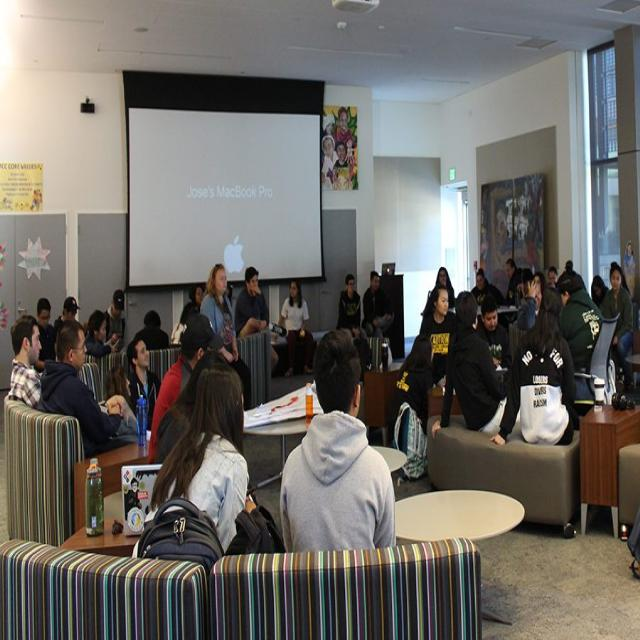body: (277, 324, 398, 554), (144, 360, 262, 565), (488, 286, 583, 449), (36, 316, 139, 460), (429, 289, 522, 441), (146, 312, 224, 465), (154, 344, 234, 492), (199, 262, 254, 412), (556, 268, 610, 411), (388, 333, 434, 450), (480, 178, 543, 258), (234, 266, 279, 372), (418, 281, 460, 393), (276, 278, 316, 380), (125, 335, 164, 435), (316, 106, 358, 190), (600, 262, 634, 363), (9, 312, 43, 410), (476, 295, 512, 385), (102, 363, 138, 436), (360, 269, 396, 339), (31, 296, 60, 380), (52, 295, 82, 362), (336, 273, 362, 341), (84, 308, 119, 357), (178, 282, 205, 344), (132, 308, 170, 350), (529, 257, 575, 291), (422, 265, 455, 311), (104, 288, 126, 354), (470, 267, 489, 321), (623, 237, 637, 297), (588, 270, 612, 304), (504, 256, 519, 307)
